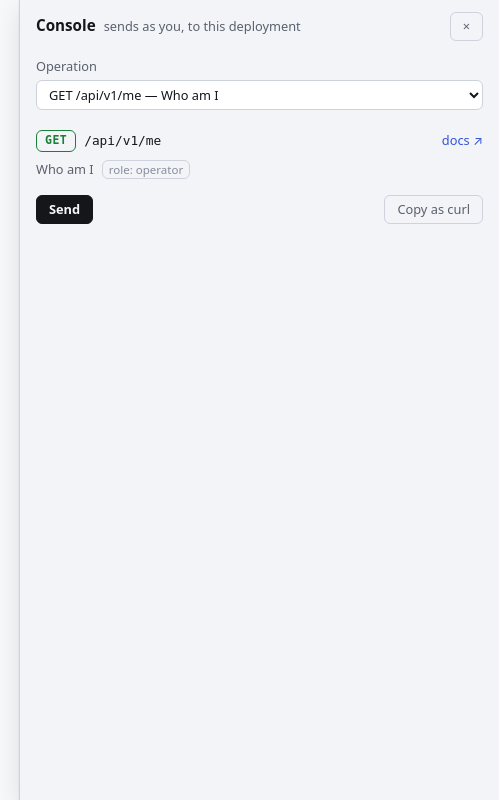
Test case: the API console (docs/49 D5, revised 2026-09-21) › never puts the token anywhere the operator can see it
This screenshot has width=499, height=800.
Select "GET /api/v1/me — Who am I" in the dropdown labelled "Operation" at (260, 95), box [36,80,483,110]
Click the button "Send" at (65, 210), box [36,195,93,224]
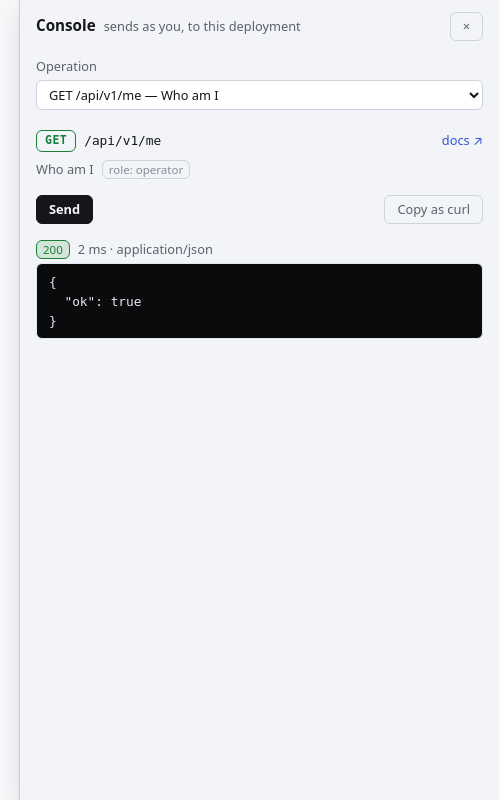
expect the text "200" is shown: met, box [36,240,70,259]
